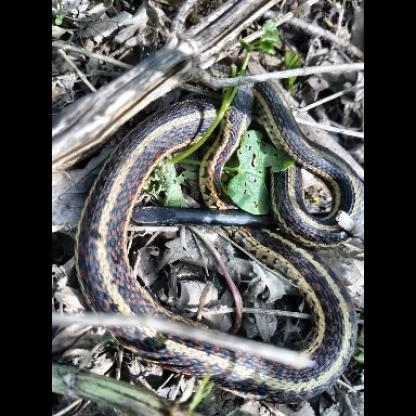Snake: (76, 60, 358, 402)
